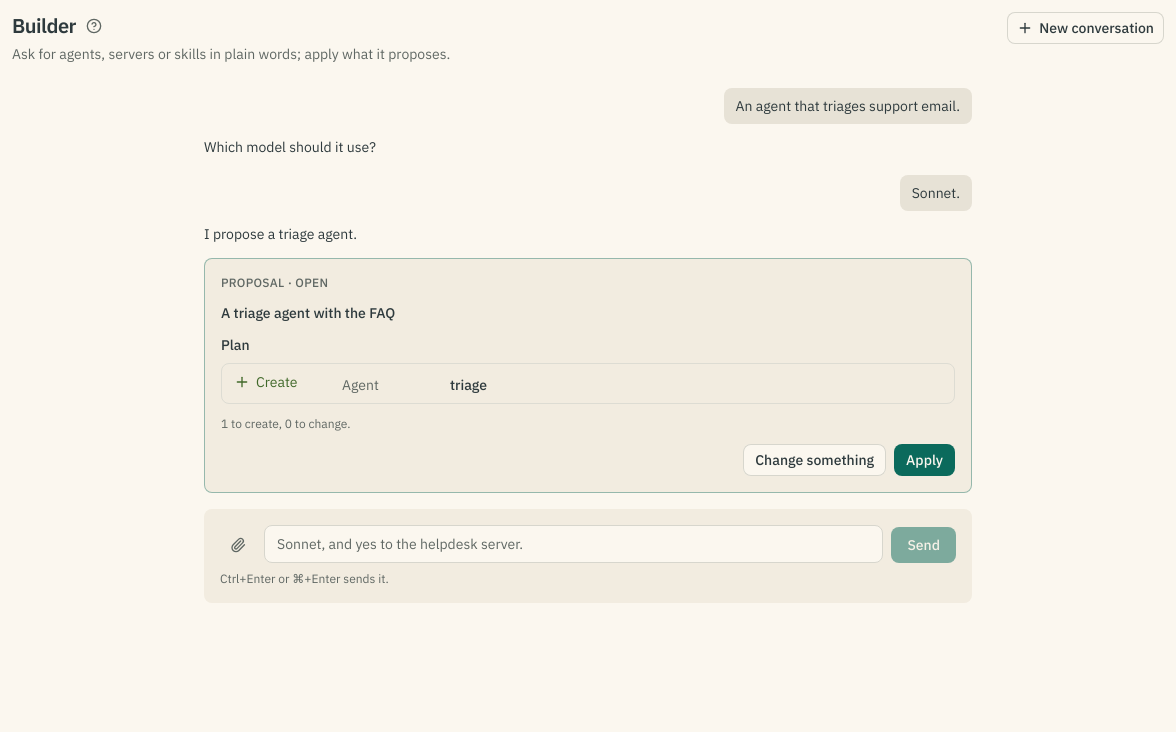
the builder's conversation › applies the plan it shows, with that plan's digest, and says what was made
The image size is (1176, 732).
Click the button "Apply": (925, 460) [894, 444, 955, 476]
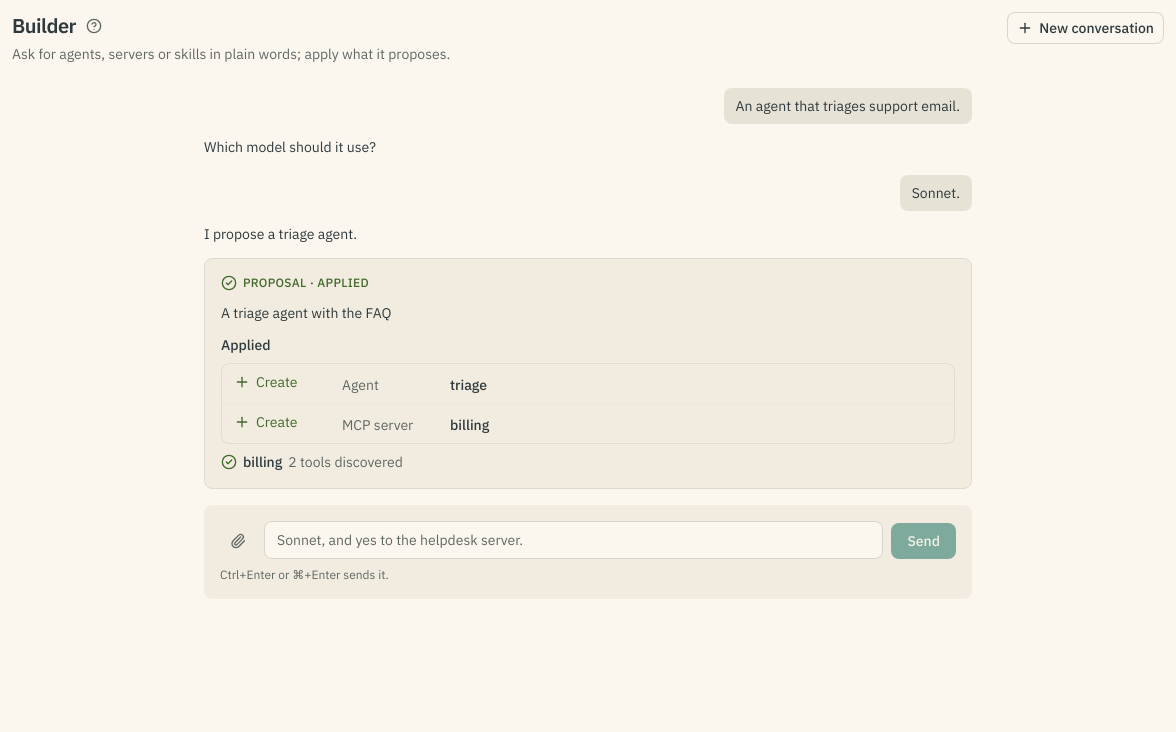
Check: the text "triage" is shown, box [450, 374, 487, 394]
Check: the heading "Applied" is shown, box [221, 336, 271, 354]
Check: the text "2 tools discovered" is shown, box [288, 452, 403, 472]
